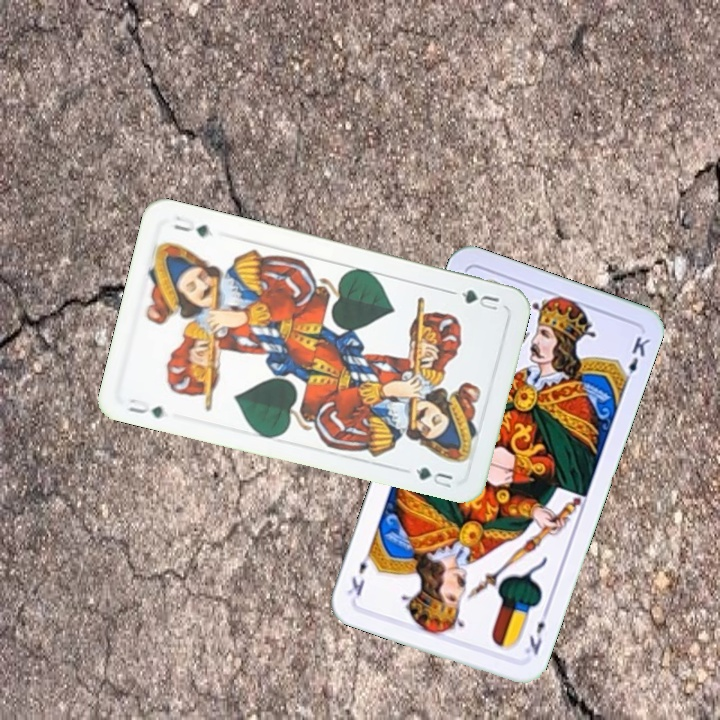EK: (521, 604, 552, 658)
GU: (447, 285, 502, 313), (124, 394, 166, 421)
